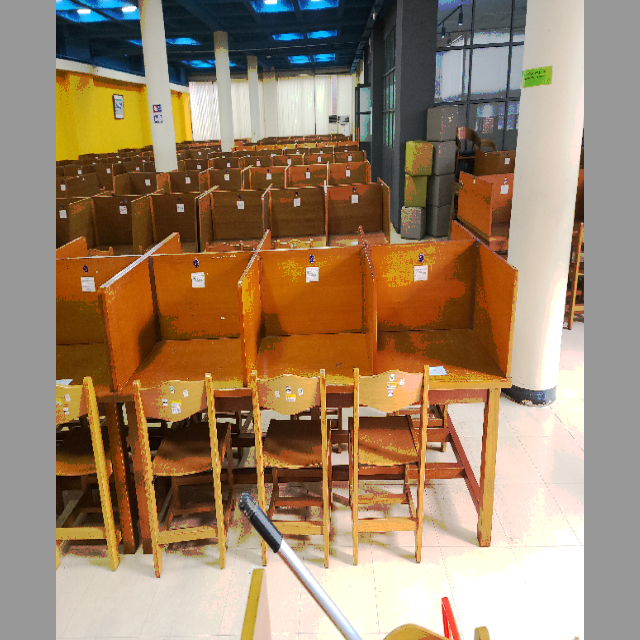empty: (110, 254, 248, 442), (384, 250, 512, 451), (248, 254, 379, 437)
